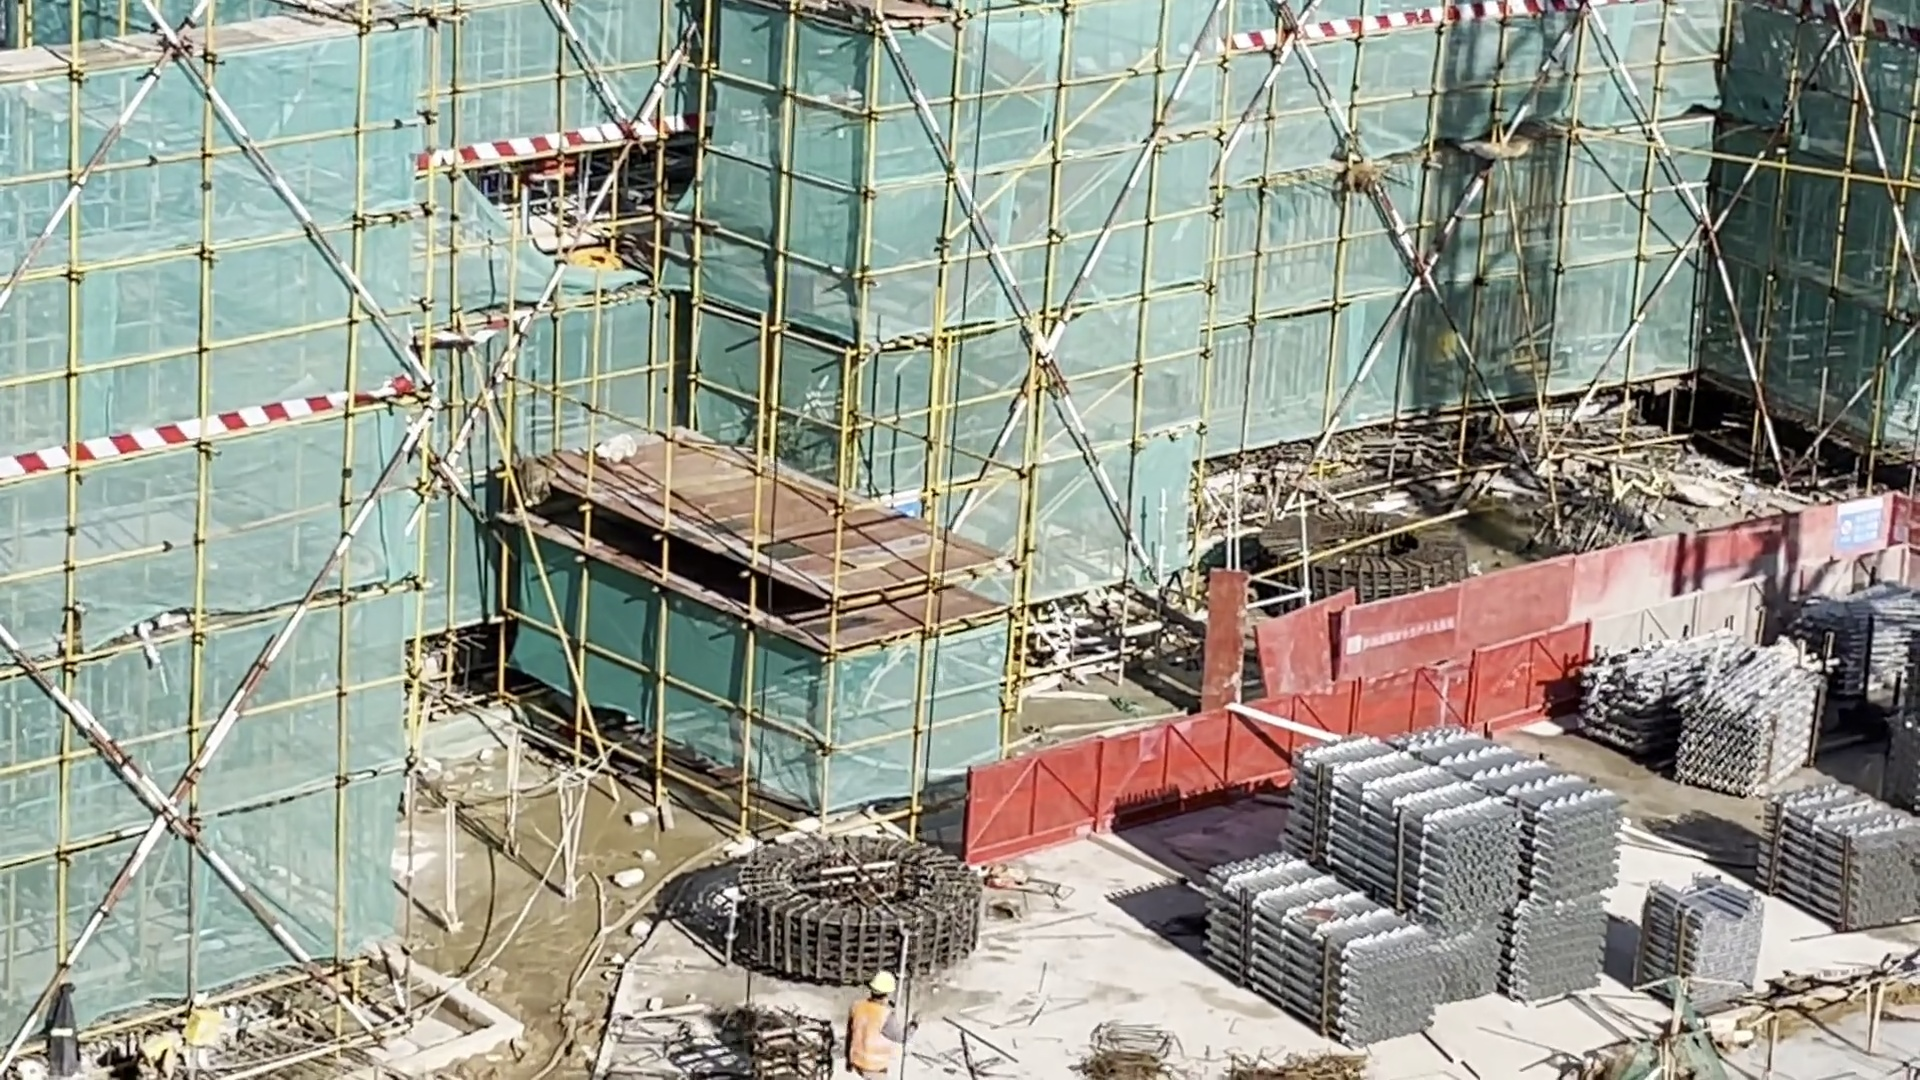fence: (967, 546, 1905, 863)
helmet: (863, 964, 911, 1003)
person: (842, 953, 902, 1080)
scaffold: (1206, 717, 1625, 1035), (1593, 643, 1825, 794), (1756, 778, 1920, 929), (1632, 885, 1770, 997), (1814, 569, 1918, 715)
vest: (848, 1002, 897, 1075)
